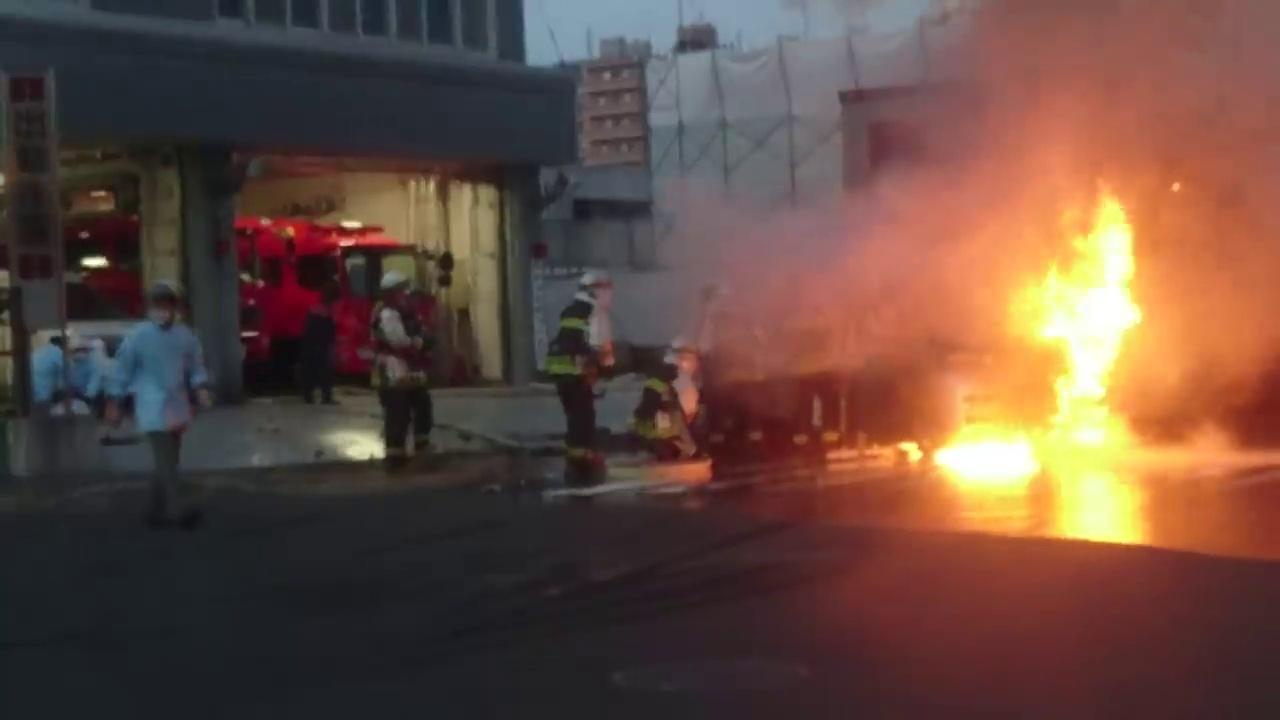fire: (1011, 243, 1126, 439)
smoke: (999, 14, 1270, 180), (811, 196, 960, 351), (1167, 231, 1264, 427)
